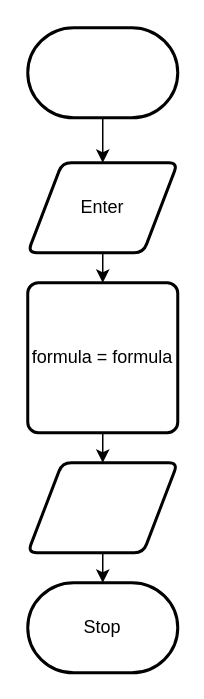
Some shapes in this 204 by 699 pixel diagram are drawn without their labels. Here are the shapes that lost their labels. From the top down, the centre of each, then its label:
point 102,72: Start
point 102,507: show vol
